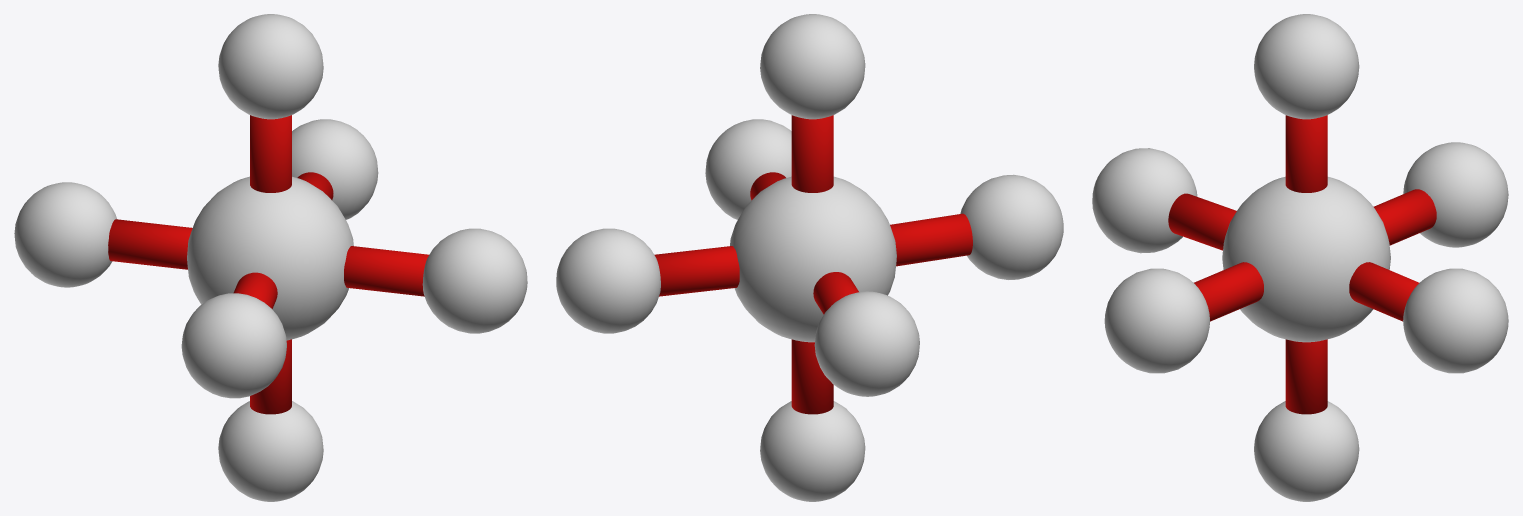
The picture shows the model from 3 angles, left to right: view 1: azimuth 30°, elevation 25°; view 2: azimuth 150°, elevation 25°; view 3: azimuth 270°, elevation 25°; orthographic projection.
Visible parts, largest first — view 1: Sphere, H, H.005, H.002, H.003, H.004, H.001, bond.003, bond.002, bond, bond.004, bond.005; view 2: Sphere, H, H.003, H.001, H.005, H.004, H.002, bond.001, bond.005, bond, bond.004, bond.003; view 3: Sphere, H.001, H, H.002, H.004, H.005, H.003, bond, bond.004, bond.002, bond.001, bond.005 (+1 smaller).
Part boxes in pixels (x1,y1,x2,y2): Sphere: [187, 176, 353, 340]; H: [218, 14, 323, 119]; H.005: [181, 293, 286, 398]; H.002: [422, 228, 527, 333]; H.003: [14, 182, 116, 287]; H.004: [218, 401, 323, 501]; H.001: [292, 119, 378, 219]; bond.003: [108, 219, 192, 269]; bond.002: [344, 246, 428, 296]; bond: [250, 115, 291, 192]; bond.004: [250, 339, 291, 414]; bond.005: [233, 272, 277, 308]; Sphere: [730, 176, 896, 342]; H: [760, 14, 865, 119]; H.003: [814, 291, 919, 396]; H.001: [556, 228, 660, 333]; H.005: [960, 174, 1063, 279]; H.004: [760, 401, 865, 501]; H.002: [705, 119, 791, 219]; bond.001: [654, 246, 739, 296]; bond.005: [890, 213, 972, 266]; bond: [791, 115, 833, 192]; bond.004: [791, 339, 833, 414]; bond.003: [813, 272, 858, 314]; Sphere: [1222, 176, 1390, 342]; H.001: [1403, 268, 1508, 373]; H: [1254, 14, 1359, 119]; H.002: [1104, 268, 1209, 373]; H.004: [1254, 401, 1359, 501]; H.005: [1092, 148, 1197, 253]; H.003: [1403, 142, 1508, 247]; bond: [1285, 115, 1327, 192]; bond.004: [1285, 339, 1327, 414]; bond.002: [1194, 262, 1263, 321]; bond.001: [1349, 262, 1419, 321]; bond.005: [1168, 193, 1236, 250].
Bounding box in the file's own units: 383 × 500 × 394.
